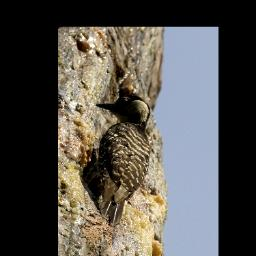Woodpecker: (81, 93, 151, 230)
